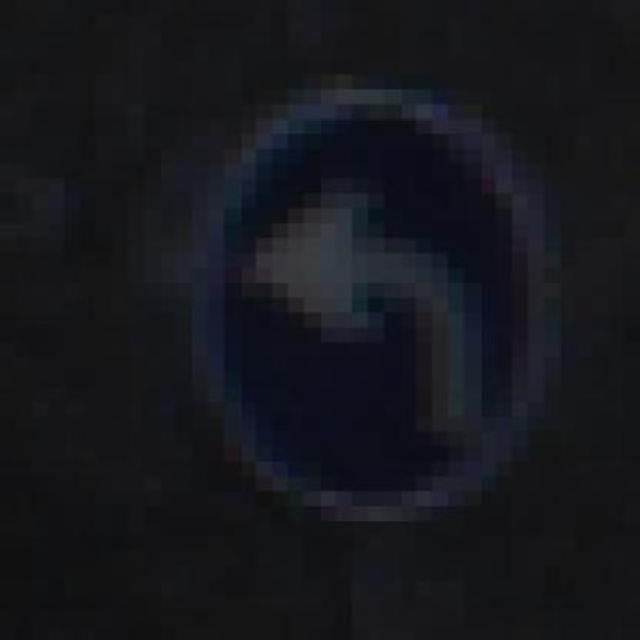Turn left ahead: (144, 75, 561, 536)
